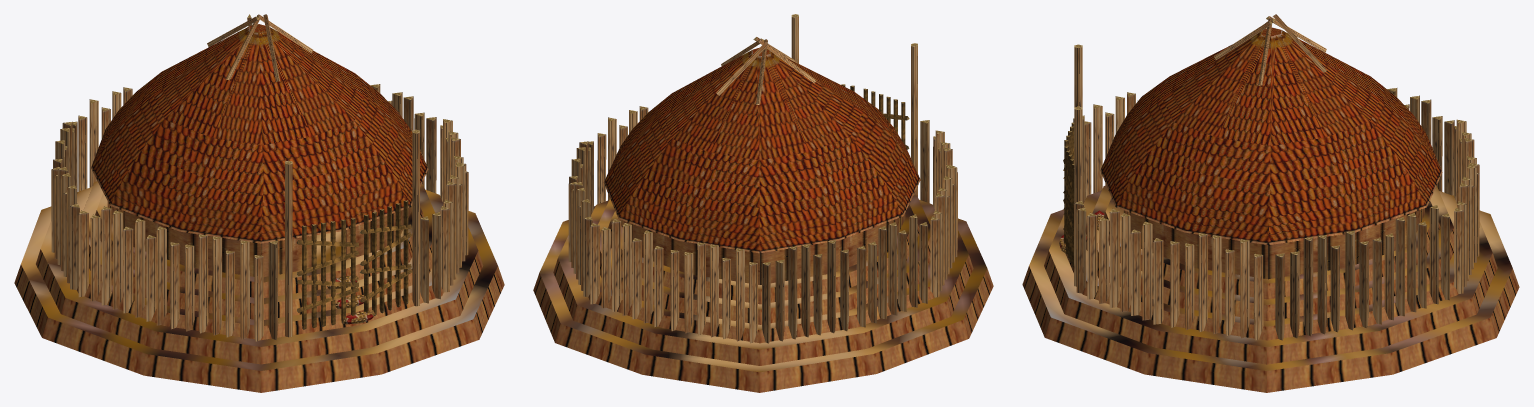
Rendered from fortress.dae.
The picture shows the model from 3 angles, left to right: view 1: azimuth 30°, elevation 25°; view 2: azimuth 150°, elevation 25°; view 3: azimuth 270°, elevation 25°; orthographic projection. The views are drawn at different scales.
Parts seen in each view (by area): view 1: fortress; view 2: fortress; view 3: fortress.
Part boxes in pixels (x1,y1,x2,y2): fortress: (14, 14, 504, 392); fortress: (533, 14, 993, 392); fortress: (1022, 14, 1519, 392).
Bounding box in the file's own units: 39.63 × 38.89 × 23.16.
